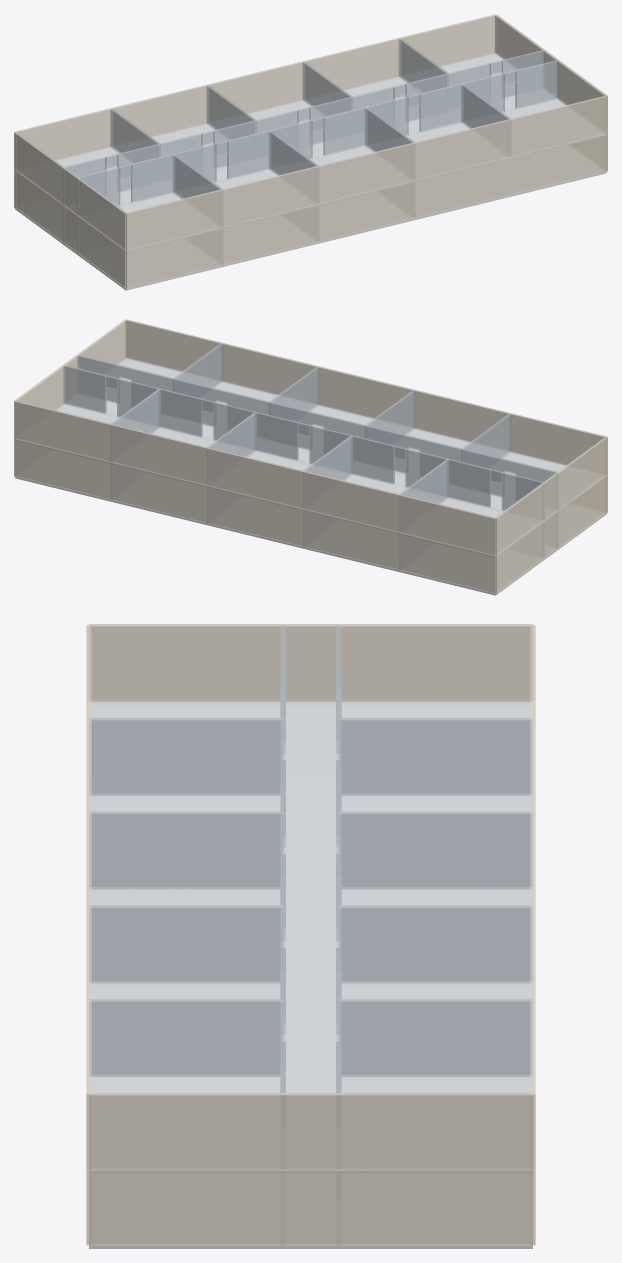
The model's file is office-small.glb.
The picture shows the model from 3 angles, top to bottom: view 1: azimuth 30°, elevation 25°; view 2: azimuth 150°, elevation 25°; view 3: azimuth 270°, elevation 25°; orthographic projection. The views are drawn at different scales.
Parts seen in each view (by area): view 1: First floor, Ground floor; view 2: First floor, Ground floor; view 3: First floor, Ground floor.
Part boxes in pixels (x1,y1,x2,y2): First floor: [14, 14, 607, 252]; Ground floor: [14, 53, 607, 290]; First floor: [14, 319, 607, 557]; Ground floor: [14, 358, 607, 595]; First floor: [86, 624, 535, 1173]; Ground floor: [86, 699, 535, 1248].
Bounding box in the file's own units: 40.2 × 6.15 × 16.2.
